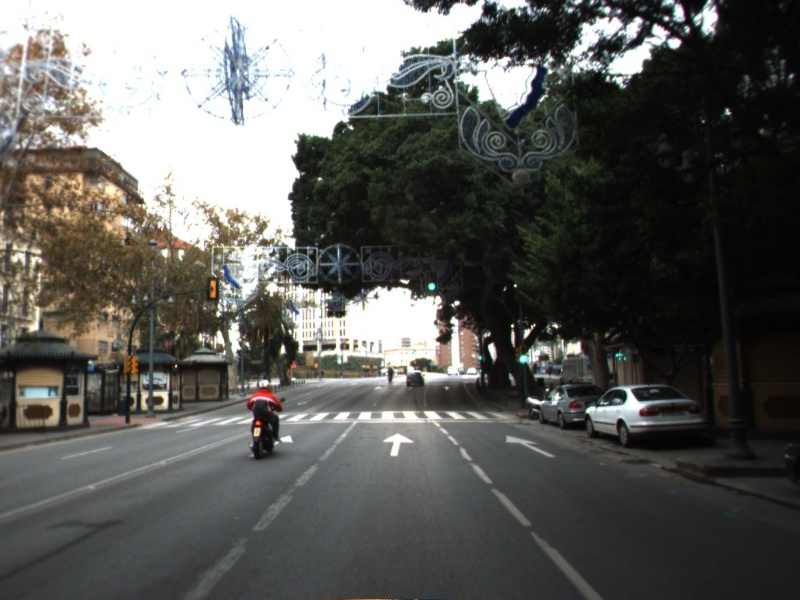STRAIGHT: (503, 433, 560, 460), (380, 431, 416, 458)
